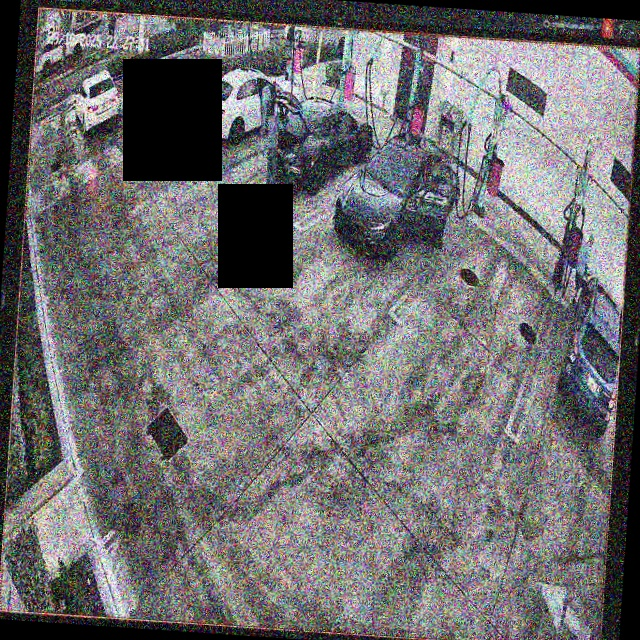Car: (331, 126, 464, 264), (264, 93, 374, 185), (222, 65, 300, 147)
